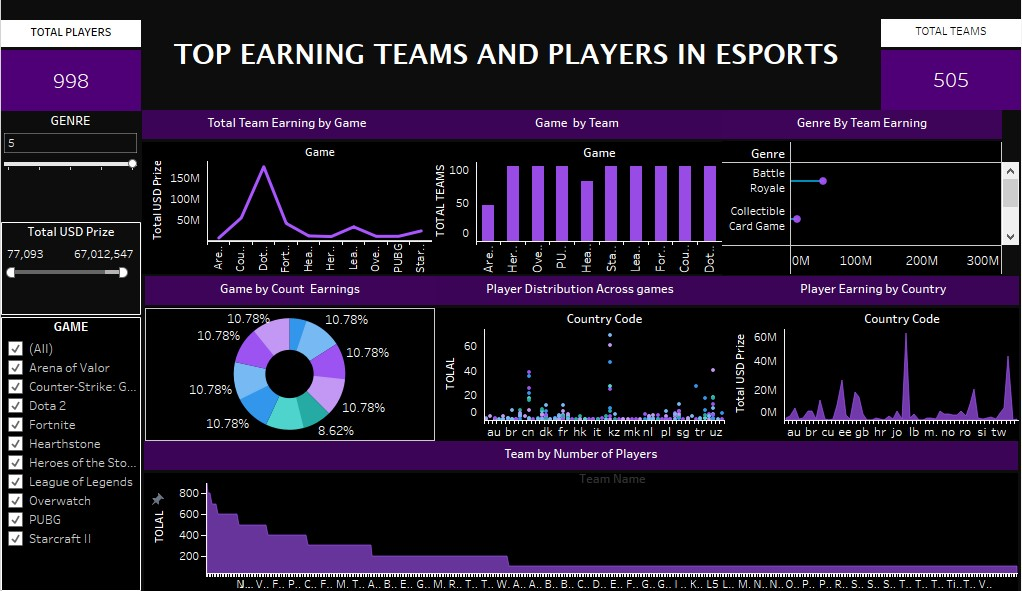

Layout of this report page (visuals, bound fields, positions):
{"tool":"tableau","page":{"name":"Dashboard 1","canvas":[1000,1000],"units":"permille","ordinal":0},"visuals":[{"type":"text","box":[166.7,6.8,661.8,170.3]},{"type":"worksheet","title":"Sheet 11","mark":"Automatic","box":[862.8,32,137.2,153.5]},{"type":"worksheet","title":"Sheet 10","mark":"Automatic","box":[0,33.7,137.2,153.5]},{"type":"worksheet","title":"Sheet 6","mark":"Line","rows":["TotalUSDPrize"],"cols":["Game"],"box":[138.2,185.5,284.3,278.2]},{"type":"worksheet","title":"Sheet 1","mark":"Automatic","rows":["Calculation_188588273613135873"],"cols":["Game"],"box":[422.6,185.5,284.3,278.2]},{"type":"worksheet","title":"Sheet 2","mark":"Bar","rows":["Genre"],"cols":["TotalUSDPrize (earning team)","TotalUSDPrize (earning team)"],"box":[706.9,185.5,291.2,278.2]},{"type":"parameter","param":"[Parameters].[Parameter 2]","box":[0,188.9,136.3,177.1]},{"type":"filter","title":"Sheet 8","param":"[federated.1ivh7hw1p6n3hk12ukf610yvz270].[sum:TotalUSDPrize:qk]","box":[0,374.4,137.2,156.8]},{"type":"worksheet","title":"Sheet 7","mark":"Pie","rows":["Calculation_186617949066383361","Calculation_186617949066383361"],"box":[141.2,465.4,284.3,278.2]},{"type":"worksheet","title":"Sheet 5","mark":"Shape","rows":["Calculation_188588273613340674"],"cols":["CountryCode"],"box":[425.5,465.4,284.3,278.2]},{"type":"worksheet","title":"Sheet 8","mark":"Area","rows":["TotalUSDPrize"],"cols":["CountryCode"],"box":[709.8,465.4,288.2,278.2]},{"type":"filter","title":"Sheet 1","param":"[federated.1ivh7hw1p6n3hk12ukf610yvz270].[none:Game:nk]","box":[0,534.6,137.2,462.1]},{"type":"worksheet","title":"Sheet 4","mark":"Area","rows":["Calculation_188588273613340674"],"cols":["TeamName"],"box":[140.2,743.7,856.9,253]}]}

Visuals, with their boxes on the dashboard's canvas, which has no fixed pixel size, in thousandths of its width and height (x1, y1, x2, y2). These are canvas units, not pixel positions in the 1022x591 screenshot, which may show the page scaled, cropped or inside an application window:
text: bbox=(167, 7, 828, 177)
"Sheet 11" worksheet: bbox=(863, 32, 1000, 186)
"Sheet 10" worksheet: bbox=(0, 34, 137, 187)
"Sheet 6" worksheet (Line marks): bbox=(138, 186, 422, 464)
"Sheet 1" worksheet: bbox=(423, 186, 707, 464)
"Sheet 2" worksheet (Bar marks): bbox=(707, 186, 998, 464)
parameter: bbox=(0, 189, 136, 366)
"Sheet 8" filter: bbox=(0, 374, 137, 531)
"Sheet 7" worksheet (Pie marks): bbox=(141, 465, 426, 744)
"Sheet 5" worksheet (Shape marks): bbox=(426, 465, 710, 744)
"Sheet 8" worksheet (Area marks): bbox=(710, 465, 998, 744)
"Sheet 1" filter: bbox=(0, 535, 137, 997)
"Sheet 4" worksheet (Area marks): bbox=(140, 744, 997, 997)
